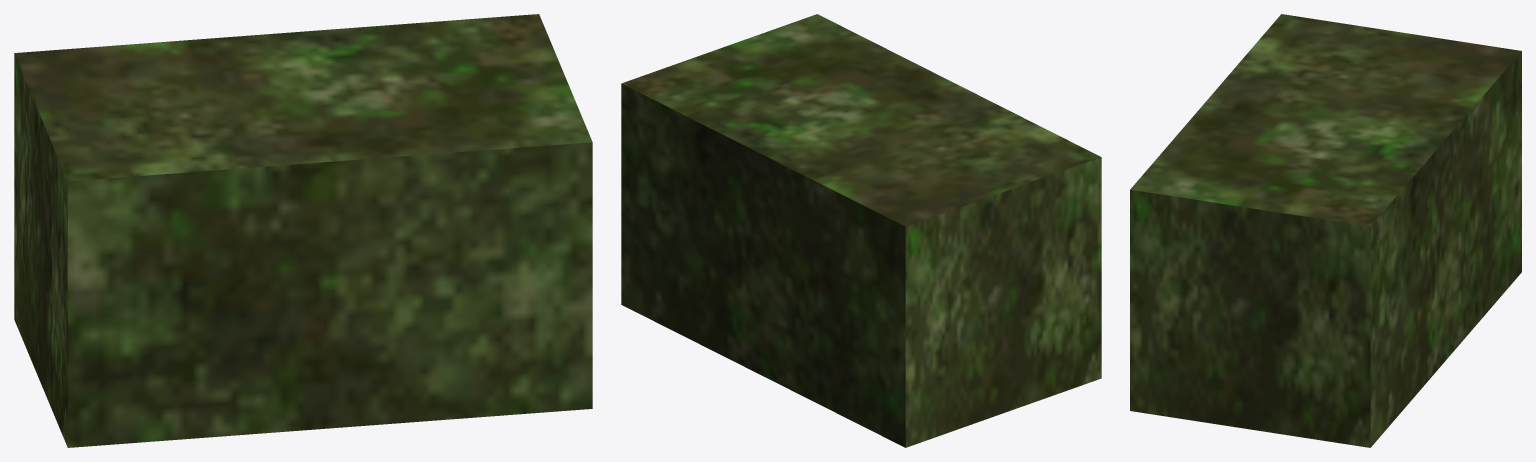
File: OVERHILL_A_01_STONE_BLOCK_29.fbx
3 renders of one model, left to right at view 1: azimuth 30°, elevation 25°; view 2: azimuth 150°, elevation 25°; view 3: azimuth 270°, elevation 25°, orthographic. The views are drawn at different scales.
Visible parts, largest first — view 1: OVERHILL_A_01_STONE_BLOCK_29; view 2: OVERHILL_A_01_STONE_BLOCK_29; view 3: OVERHILL_A_01_STONE_BLOCK_29.
Part boxes in pixels (x1,y1,x2,y2): OVERHILL_A_01_STONE_BLOCK_29: (14,14,592,447); OVERHILL_A_01_STONE_BLOCK_29: (621,14,1101,447); OVERHILL_A_01_STONE_BLOCK_29: (1130,14,1521,447).
Size of the model in its own units: 14804 by 7183 by 11525.
Materials: 1 (1 with a texture image).
